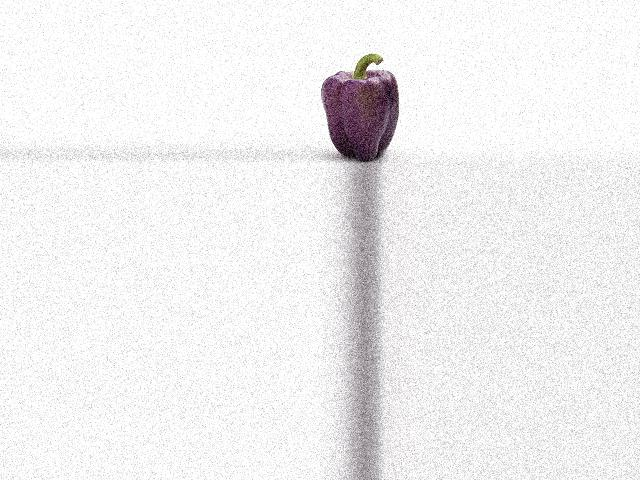bell_pepper: (315, 55, 407, 159)
